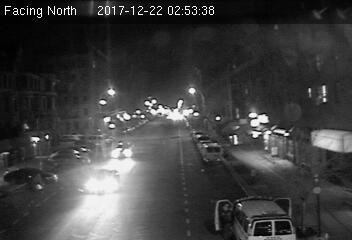car: (81, 167, 120, 196), (111, 141, 136, 160)
police: (212, 192, 297, 240)
truck: (201, 144, 225, 166)
